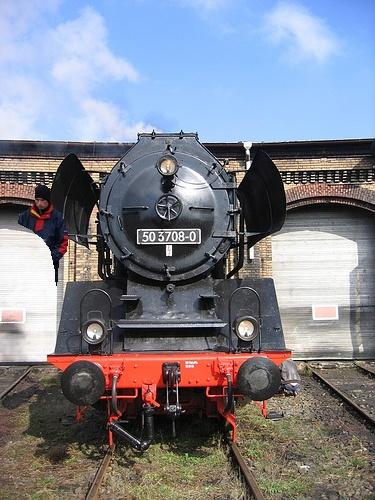tampered: (19, 185, 68, 286)
